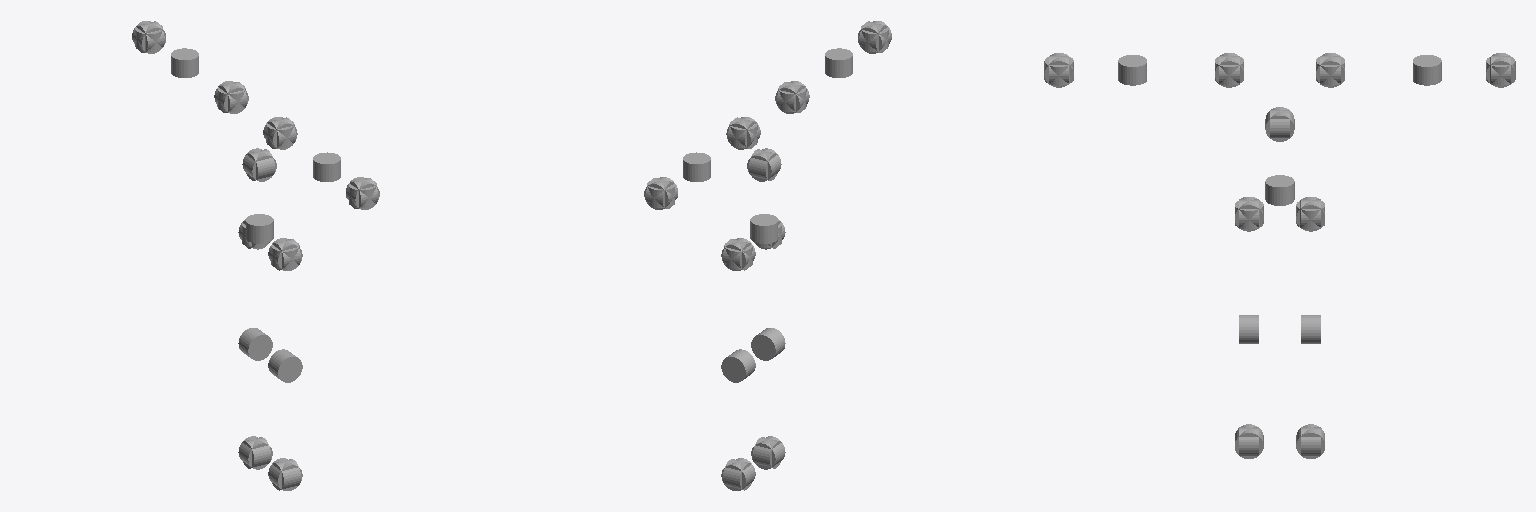
--- Facts derived from the render (not from the file) ---
Views: 3 orthographic renders of the robot side by side, from view 1: azimuth 30°, elevation 25°; view 2: azimuth 150°, elevation 25°; view 3: azimuth 270°, elevation 25°.
Robot: custom_g1_bot — 37 links, 36 joints (29 revolute, 7 fixed); root link pelvis; default pose: every joint at zero.
Links seen in each view (by area): view 1: right_knee_link, left_knee_link, waist_yaw_link, left_elbow_link, right_elbow_link; view 2: left_knee_link, right_knee_link, waist_yaw_link, right_elbow_link, left_elbow_link; view 3: waist_yaw_link, left_elbow_link, right_elbow_link, left_knee_link, right_knee_link.
Link boxes in pixels (left/top/right/bottom): right_knee_link: left=268, top=349, right=302, bottom=382; left_knee_link: left=238, top=328, right=272, bottom=360; waist_yaw_link: left=246, top=214, right=273, bottom=243; left_elbow_link: left=171, top=48, right=198, bottom=77; right_elbow_link: left=313, top=152, right=340, bottom=181; left_knee_link: left=721, top=349, right=755, bottom=382; right_knee_link: left=751, top=328, right=785, bottom=360; waist_yaw_link: left=750, top=214, right=777, bottom=243; right_elbow_link: left=825, top=48, right=852, bottom=77; left_elbow_link: left=683, top=152, right=710, bottom=181; waist_yaw_link: left=1265, top=175, right=1294, bottom=205; left_elbow_link: left=1413, top=55, right=1441, bottom=85; right_elbow_link: left=1118, top=55, right=1146, bottom=85; left_knee_link: left=1301, top=315, right=1320, bottom=343; right_knee_link: left=1239, top=315, right=1258, bottom=343.
Size in the robot's own frame: 0.0797 by 0.8048 by 0.7367 metres.
Geometry: primitives only (box / cylinder / sphere), no mesh files.

The robot description file, URDF, robot "custom_g1_bot":
<?xml version="1.0"?>
<robot name="custom_g1_bot">
  <link name="pelvis">
    
    <inertial>
      <mass value="0.01"/>
      <origin xyz="0 0 0" rpy="0 0 0"/>
      <inertia ixx="1e-5" ixy="0" ixz="0" iyy="1e-5" iyz="0" izz="1e-5"/>
    </inertial>
    
    
  </link>
  <link name="left_hip_pitch_link">
    
    <inertial>
      <mass value="0.5"/>
      <origin xyz="0 0 0" rpy="1.5708 0 0"/>
      <inertia ixx="0.01" ixy="0" ixz="0" iyy="0.01" iyz="0" izz="0.01"/>
    </inertial>
    
    <visual>
      <origin xyz="0 0 0" rpy="1.5708 0 0"/>
      <geometry><cylinder radius="0.025" length="0.035"/></geometry>
      <material name="UnitreeGray"><color rgba="0.7 0.7 0.7 1.0"/></material>
    </visual>
    
    <collision>
      <origin xyz="0 0 0" rpy="1.5708 0 0"/>
      <geometry><cylinder radius="0.025" length="0.035"/></geometry>
    </collision>
  </link>
  <joint name="left_hip_pitch_joint" type="revolute">
    <parent link="pelvis"/>
    <child link="left_hip_pitch_link"/>
    <origin xyz="0.009289 0.052743 0.000517" rpy="0 0 0"/>
    <axis xyz="0 1 0"/>
    <limit lower="-3.14" upper="3.14" effort="5.0" velocity="40.0"/>
  </joint>
  <transmission name="trans_left_hip_pitch_joint">
    <type>transmission_interface/SimpleTransmission</type>
    <joint name="left_hip_pitch_joint"><hardwareInterface>hardware_interface/EffortJointInterface</hardwareInterface></joint>
    <actuator name="motor_left_hip_pitch_joint"><mechanicalReduction>1</mechanicalReduction></actuator>
  </transmission>
  <link name="left_hip_roll_link">
    
    <inertial>
      <mass value="0.5"/>
      <origin xyz="0 0 0" rpy="0 1.5708 0"/>
      <inertia ixx="0.01" ixy="0" ixz="0" iyy="0.01" iyz="0" izz="0.01"/>
    </inertial>
    
    <visual>
      <origin xyz="0 0 0" rpy="0 1.5708 0"/>
      <geometry><cylinder radius="0.025" length="0.035"/></geometry>
      <material name="UnitreeGray"><color rgba="0.7 0.7 0.7 1.0"/></material>
    </visual>
    
    <collision>
      <origin xyz="0 0 0" rpy="0 1.5708 0"/>
      <geometry><cylinder radius="0.025" length="0.035"/></geometry>
    </collision>
  </link>
  <joint name="left_hip_roll_joint" type="revolute">
    <parent link="left_hip_pitch_link"/>
    <child link="left_hip_roll_link"/>
    <origin xyz="0 0 0" rpy="0 0 0"/>
    <axis xyz="1 0 0"/>
    <limit lower="-3.14" upper="3.14" effort="5.0" velocity="40.0"/>
  </joint>
  <transmission name="trans_left_hip_roll_joint">
    <type>transmission_interface/SimpleTransmission</type>
    <joint name="left_hip_roll_joint"><hardwareInterface>hardware_interface/EffortJointInterface</hardwareInterface></joint>
    <actuator name="motor_left_hip_roll_joint"><mechanicalReduction>1</mechanicalReduction></actuator>
  </transmission>
  <link name="left_hip_yaw_link">
    
    <inertial>
      <mass value="0.5"/>
      <origin xyz="0 0 0" rpy="0 0 0"/>
      <inertia ixx="0.01" ixy="0" ixz="0" iyy="0.01" iyz="0" izz="0.01"/>
    </inertial>
    
    <visual>
      <origin xyz="0 0 0" rpy="0 0 0"/>
      <geometry><cylinder radius="0.025" length="0.035"/></geometry>
      <material name="UnitreeGray"><color rgba="0.7 0.7 0.7 1.0"/></material>
    </visual>
    
    <collision>
      <origin xyz="0 0 0" rpy="0 0 0"/>
      <geometry><cylinder radius="0.025" length="0.035"/></geometry>
    </collision>
  </link>
  <joint name="left_hip_yaw_joint" type="revolute">
    <parent link="left_hip_roll_link"/>
    <child link="left_hip_yaw_link"/>
    <origin xyz="0 0 0" rpy="0 0 0"/>
    <axis xyz="0 0 1"/>
    <limit lower="-3.14" upper="3.14" effort="5.0" velocity="40.0"/>
  </joint>
  <transmission name="trans_left_hip_yaw_joint">
    <type>transmission_interface/SimpleTransmission</type>
    <joint name="left_hip_yaw_joint"><hardwareInterface>hardware_interface/EffortJointInterface</hardwareInterface></joint>
    <actuator name="motor_left_hip_yaw_joint"><mechanicalReduction>1</mechanicalReduction></actuator>
  </transmission>
  <link name="left_knee_link">
    
    <inertial>
      <mass value="0.5"/>
      <origin xyz="0 0 0" rpy="1.5708 0 0"/>
      <inertia ixx="0.01" ixy="0" ixz="0" iyy="0.01" iyz="0" izz="0.01"/>
    </inertial>
    
    <visual>
      <origin xyz="0 0 0" rpy="1.5708 0 0"/>
      <geometry><cylinder radius="0.025" length="0.035"/></geometry>
      <material name="UnitreeGray"><color rgba="0.7 0.7 0.7 1.0"/></material>
    </visual>
    
    <collision>
      <origin xyz="0 0 0" rpy="1.5708 0 0"/>
      <geometry><cylinder radius="0.025" length="0.035"/></geometry>
    </collision>
  </link>
  <joint name="left_knee_joint" type="revolute">
    <parent link="left_hip_yaw_link"/>
    <child link="left_knee_link"/>
    <origin xyz="-0.0 -0.0 -0.2175" rpy="0 0 0"/>
    <axis xyz="0 1 0"/>
    <limit lower="-3.14" upper="3.14" effort="5.0" velocity="40.0"/>
  </joint>
  <transmission name="trans_left_knee_joint">
    <type>transmission_interface/SimpleTransmission</type>
    <joint name="left_knee_joint"><hardwareInterface>hardware_interface/EffortJointInterface</hardwareInterface></joint>
    <actuator name="motor_left_knee_joint"><mechanicalReduction>1</mechanicalReduction></actuator>
  </transmission>
  <link name="left_ankle_pitch_link">
    
    <inertial>
      <mass value="0.5"/>
      <origin xyz="0 0 0" rpy="1.5708 0 0"/>
      <inertia ixx="0.01" ixy="0" ixz="0" iyy="0.01" iyz="0" izz="0.01"/>
    </inertial>
    
    <visual>
      <origin xyz="0 0 0" rpy="1.5708 0 0"/>
      <geometry><cylinder radius="0.025" length="0.035"/></geometry>
      <material name="UnitreeGray"><color rgba="0.7 0.7 0.7 1.0"/></material>
    </visual>
    
    <collision>
      <origin xyz="0 0 0" rpy="1.5708 0 0"/>
      <geometry><cylinder radius="0.025" length="0.035"/></geometry>
    </collision>
  </link>
  <joint name="left_ankle_pitch_joint" type="revolute">
    <parent link="left_knee_link"/>
    <child link="left_ankle_pitch_link"/>
    <origin xyz="0.0 0.0 -0.211861" rpy="0 0 0"/>
    <axis xyz="0 1 0"/>
    <limit lower="-3.14" upper="3.14" effort="5.0" velocity="40.0"/>
  </joint>
  <transmission name="trans_left_ankle_pitch_joint">
    <type>transmission_interface/SimpleTransmission</type>
    <joint name="left_ankle_pitch_joint"><hardwareInterface>hardware_interface/EffortJointInterface</hardwareInterface></joint>
    <actuator name="motor_left_ankle_pitch_joint"><mechanicalReduction>1</mechanicalReduction></actuator>
  </transmission>
  <link name="left_ankle_roll_link">
    
    <inertial>
      <mass value="0.5"/>
      <origin xyz="0 0 0" rpy="0 1.5708 0"/>
      <inertia ixx="0.01" ixy="0" ixz="0" iyy="0.01" iyz="0" izz="0.01"/>
    </inertial>
    
    <visual>
      <origin xyz="0 0 0" rpy="0 1.5708 0"/>
      <geometry><cylinder radius="0.025" length="0.035"/></geometry>
      <material name="UnitreeGray"><color rgba="0.7 0.7 0.7 1.0"/></material>
    </visual>
    
    <collision>
      <origin xyz="0 0 0" rpy="0 1.5708 0"/>
      <geometry><cylinder radius="0.025" length="0.035"/></geometry>
    </collision>
  </link>
  <joint name="left_ankle_roll_joint" type="revolute">
    <parent link="left_ankle_pitch_link"/>
    <child link="left_ankle_roll_link"/>
    <origin xyz="0 0 0" rpy="0 0 0"/>
    <axis xyz="1 0 0"/>
    <limit lower="-3.14" upper="3.14" effort="5.0" velocity="40.0"/>
  </joint>
  <transmission name="trans_left_ankle_roll_joint">
    <type>transmission_interface/SimpleTransmission</type>
    <joint name="left_ankle_roll_joint"><hardwareInterface>hardware_interface/EffortJointInterface</hardwareInterface></joint>
    <actuator name="motor_left_ankle_roll_joint"><mechanicalReduction>1</mechanicalReduction></actuator>
  </transmission>
  <link name="LeftToe_link">
    
    <inertial>
      <mass value="0.01"/>
      <origin xyz="0 0 0" rpy="0 0 0"/>
      <inertia ixx="1e-5" ixy="0" ixz="0" iyy="1e-5" iyz="0" izz="1e-5"/>
    </inertial>
    
    
  </link>
  <joint name="LeftToe_fixed_joint" type="fixed">
    <parent link="left_ankle_roll_link"/>
    <child link="LeftToe_link"/>
    <origin xyz="0.0865 -0.0 0.0" rpy="0 0 0"/>
    <axis xyz="0 0 0"/>
    
  </joint>
  <link name="right_hip_pitch_link">
    
    <inertial>
      <mass value="0.5"/>
      <origin xyz="0 0 0" rpy="1.5708 0 0"/>
      <inertia ixx="0.01" ixy="0" ixz="0" iyy="0.01" iyz="0" izz="0.01"/>
    </inertial>
    
    <visual>
      <origin xyz="0 0 0" rpy="1.5708 0 0"/>
      <geometry><cylinder radius="0.025" length="0.035"/></geometry>
      <material name="UnitreeGray"><color rgba="0.7 0.7 0.7 1.0"/></material>
    </visual>
    
    <collision>
      <origin xyz="0 0 0" rpy="1.5708 0 0"/>
      <geometry><cylinder radius="0.025" length="0.035"/></geometry>
    </collision>
  </link>
  <joint name="right_hip_pitch_joint" type="revolute">
    <parent link="pelvis"/>
    <child link="right_hip_pitch_link"/>
    <origin xyz="0.009289 -0.052743 0.000517" rpy="0 0 0"/>
    <axis xyz="0 1 0"/>
    <limit lower="-3.14" upper="3.14" effort="5.0" velocity="40.0"/>
  </joint>
  <transmission name="trans_right_hip_pitch_joint">
    <type>transmission_interface/SimpleTransmission</type>
    <joint name="right_hip_pitch_joint"><hardwareInterface>hardware_interface/EffortJointInterface</hardwareInterface></joint>
    <actuator name="motor_right_hip_pitch_joint"><mechanicalReduction>1</mechanicalReduction></actuator>
  </transmission>
  <link name="right_hip_roll_link">
    
    <inertial>
      <mass value="0.5"/>
      <origin xyz="0 0 0" rpy="0 1.5708 0"/>
      <inertia ixx="0.01" ixy="0" ixz="0" iyy="0.01" iyz="0" izz="0.01"/>
    </inertial>
    
    <visual>
      <origin xyz="0 0 0" rpy="0 1.5708 0"/>
      <geometry><cylinder radius="0.025" length="0.035"/></geometry>
      <material name="UnitreeGray"><color rgba="0.7 0.7 0.7 1.0"/></material>
    </visual>
    
    <collision>
      <origin xyz="0 0 0" rpy="0 1.5708 0"/>
      <geometry><cylinder radius="0.025" length="0.035"/></geometry>
    </collision>
  </link>
  <joint name="right_hip_roll_joint" type="revolute">
    <parent link="right_hip_pitch_link"/>
    <child link="right_hip_roll_link"/>
    <origin xyz="0 0 0" rpy="0 0 0"/>
    <axis xyz="1 0 0"/>
    <limit lower="-3.14" upper="3.14" effort="5.0" velocity="40.0"/>
  </joint>
  <transmission name="trans_right_hip_roll_joint">
    <type>transmission_interface/SimpleTransmission</type>
    <joint name="right_hip_roll_joint"><hardwareInterface>hardware_interface/EffortJointInterface</hardwareInterface></joint>
    <actuator name="motor_right_hip_roll_joint"><mechanicalReduction>1</mechanicalReduction></actuator>
  </transmission>
  <link name="right_hip_yaw_link">
    
    <inertial>
      <mass value="0.5"/>
      <origin xyz="0 0 0" rpy="0 0 0"/>
      <inertia ixx="0.01" ixy="0" ixz="0" iyy="0.01" iyz="0" izz="0.01"/>
    </inertial>
    
    <visual>
      <origin xyz="0 0 0" rpy="0 0 0"/>
      <geometry><cylinder radius="0.025" length="0.035"/></geometry>
      <material name="UnitreeGray"><color rgba="0.7 0.7 0.7 1.0"/></material>
    </visual>
    
    <collision>
      <origin xyz="0 0 0" rpy="0 0 0"/>
      <geometry><cylinder radius="0.025" length="0.035"/></geometry>
    </collision>
  </link>
  <joint name="right_hip_yaw_joint" type="revolute">
    <parent link="right_hip_roll_link"/>
    <child link="right_hip_yaw_link"/>
    <origin xyz="0 0 0" rpy="0 0 0"/>
    <axis xyz="0 0 1"/>
    <limit lower="-3.14" upper="3.14" effort="5.0" velocity="40.0"/>
  </joint>
  <transmission name="trans_right_hip_yaw_joint">
    <type>transmission_interface/SimpleTransmission</type>
    <joint name="right_hip_yaw_joint"><hardwareInterface>hardware_interface/EffortJointInterface</hardwareInterface></joint>
    <actuator name="motor_right_hip_yaw_joint"><mechanicalReduction>1</mechanicalReduction></actuator>
  </transmission>
  <link name="right_knee_link">
    
    <inertial>
      <mass value="0.5"/>
      <origin xyz="0 0 0" rpy="1.5708 0 0"/>
      <inertia ixx="0.01" ixy="0" ixz="0" iyy="0.01" iyz="0" izz="0.01"/>
    </inertial>
    
    <visual>
      <origin xyz="0 0 0" rpy="1.5708 0 0"/>
      <geometry><cylinder radius="0.025" length="0.035"/></geometry>
      <material name="UnitreeGray"><color rgba="0.7 0.7 0.7 1.0"/></material>
    </visual>
    
    <collision>
      <origin xyz="0 0 0" rpy="1.5708 0 0"/>
      <geometry><cylinder radius="0.025" length="0.035"/></geometry>
    </collision>
  </link>
  <joint name="right_knee_joint" type="revolute">
    <parent link="right_hip_yaw_link"/>
    <child link="right_knee_link"/>
    <origin xyz="-0.0 -0.0 -0.2175" rpy="0 0 0"/>
    <axis xyz="0 1 0"/>
    <limit lower="-3.14" upper="3.14" effort="5.0" velocity="40.0"/>
  </joint>
  <transmission name="trans_right_knee_joint">
    <type>transmission_interface/SimpleTransmission</type>
    <joint name="right_knee_joint"><hardwareInterface>hardware_interface/EffortJointInterface</hardwareInterface></joint>
    <actuator name="motor_right_knee_joint"><mechanicalReduction>1</mechanicalReduction></actuator>
  </transmission>
  <link name="right_ankle_pitch_link">
    
    <inertial>
      <mass value="0.5"/>
      <origin xyz="0 0 0" rpy="1.5708 0 0"/>
      <inertia ixx="0.01" ixy="0" ixz="0" iyy="0.01" iyz="0" izz="0.01"/>
    </inertial>
    
    <visual>
      <origin xyz="0 0 0" rpy="1.5708 0 0"/>
      <geometry><cylinder radius="0.025" length="0.035"/></geometry>
      <material name="UnitreeGray"><color rgba="0.7 0.7 0.7 1.0"/></material>
    </visual>
    
    <collision>
      <origin xyz="0 0 0" rpy="1.5708 0 0"/>
      <geometry><cylinder radius="0.025" length="0.035"/></geometry>
    </collision>
  </link>
  <joint name="right_ankle_pitch_joint" type="revolute">
    <parent link="right_knee_link"/>
    <child link="right_ankle_pitch_link"/>
    <origin xyz="0.0 -0.0 -0.211861" rpy="0 0 0"/>
    <axis xyz="0 1 0"/>
    <limit lower="-3.14" upper="3.14" effort="5.0" velocity="40.0"/>
  </joint>
  <transmission name="trans_right_ankle_pitch_joint">
    <type>transmission_interface/SimpleTransmission</type>
    <joint name="right_ankle_pitch_joint"><hardwareInterface>hardware_interface/EffortJointInterface</hardwareInterface></joint>
    <actuator name="motor_right_ankle_pitch_joint"><mechanicalReduction>1</mechanicalReduction></actuator>
  </transmission>
  <link name="right_ankle_roll_link">
    
    <inertial>
      <mass value="0.5"/>
      <origin xyz="0 0 0" rpy="0 1.5708 0"/>
      <inertia ixx="0.01" ixy="0" ixz="0" iyy="0.01" iyz="0" izz="0.01"/>
    </inertial>
    
    <visual>
      <origin xyz="0 0 0" rpy="0 1.5708 0"/>
      <geometry><cylinder radius="0.025" length="0.035"/></geometry>
      <material name="UnitreeGray"><color rgba="0.7 0.7 0.7 1.0"/></material>
    </visual>
    
    <collision>
      <origin xyz="0 0 0" rpy="0 1.5708 0"/>
      <geometry><cylinder radius="0.025" length="0.035"/></geometry>
    </collision>
  </link>
  <joint name="right_ankle_roll_joint" type="revolute">
    <parent link="right_ankle_pitch_link"/>
    <child link="right_ankle_roll_link"/>
    <origin xyz="0 0 0" rpy="0 0 0"/>
    <axis xyz="1 0 0"/>
    <limit lower="-3.14" upper="3.14" effort="5.0" velocity="40.0"/>
  </joint>
  <transmission name="trans_right_ankle_roll_joint">
    <type>transmission_interface/SimpleTransmission</type>
    <joint name="right_ankle_roll_joint"><hardwareInterface>hardware_interface/EffortJointInterface</hardwareInterface></joint>
    <actuator name="motor_right_ankle_roll_joint"><mechanicalReduction>1</mechanicalReduction></actuator>
  </transmission>
  <link name="RightToe_link">
    
    <inertial>
      <mass value="0.01"/>
      <origin xyz="0 0 0" rpy="0 0 0"/>
      <inertia ixx="1e-5" ixy="0" ixz="0" iyy="1e-5" iyz="0" izz="1e-5"/>
    </inertial>
    
    
  </link>
  <joint name="RightToe_fixed_joint" type="fixed">
    <parent link="right_ankle_roll_link"/>
    <child link="RightToe_link"/>
    <origin xyz="0.0865 -0.0 -0.0" rpy="0 0 0"/>
    <axis xyz="0 0 0"/>
    
  </joint>
  <link name="waist_yaw_link">
    
    <inertial>
      <mass value="0.5"/>
      <origin xyz="0 0 0" rpy="0 0 0"/>
      <inertia ixx="0.01" ixy="0" ixz="0" iyy="0.01" iyz="0" izz="0.01"/>
    </inertial>
    
    <visual>
      <origin xyz="0 0 0" rpy="0 0 0"/>
      <geometry><cylinder radius="0.025" length="0.035"/></geometry>
      <material name="UnitreeGray"><color rgba="0.7 0.7 0.7 1.0"/></material>
    </visual>
    
    <collision>
      <origin xyz="0 0 0" rpy="0 0 0"/>
      <geometry><cylinder radius="0.025" length="0.035"/></geometry>
    </collision>
  </link>
  <joint name="waist_yaw_joint" type="revolute">
    <parent link="pelvis"/>
    <child link="waist_yaw_link"/>
    <origin xyz="-0.013019 -0.0 0.03451" rpy="0 0 0"/>
    <axis xyz="0 0 1"/>
    <limit lower="-3.14" upper="3.14" effort="5.0" velocity="40.0"/>
  </joint>
  <transmission name="trans_waist_yaw_joint">
    <type>transmission_interface/SimpleTransmission</type>
    <joint name="waist_yaw_joint"><hardwareInterface>hardware_interface/EffortJointInterface</hardwareInterface></joint>
    <actuator name="motor_waist_yaw_joint"><mechanicalReduction>1</mechanicalReduction></actuator>
  </transmission>
  <link name="Spine1_link">
    
    <inertial>
      <mass value="0.01"/>
      <origin xyz="0 0 0" rpy="0 0 0"/>
      <inertia ixx="1e-5" ixy="0" ixz="0" iyy="1e-5" iyz="0" izz="1e-5"/>
    </inertial>
    
    
  </link>
  <joint name="Spine1_fixed_joint" type="fixed">
    <parent link="waist_yaw_link"/>
    <child link="Spine1_link"/>
    <origin xyz="0.0 0.0 0.06294" rpy="0 0 0"/>
    <axis xyz="0 0 0"/>
    
  </joint>
  <link name="waist_roll_link">
    
    <inertial>
      <mass value="0.5"/>
      <origin xyz="0 0 0" rpy="0 1.5708 0"/>
      <inertia ixx="0.01" ixy="0" ixz="0" iyy="0.01" iyz="0" izz="0.01"/>
    </inertial>
    
    <visual>
      <origin xyz="0 0 0" rpy="0 1.5708 0"/>
      <geometry><cylinder radius="0.025" length="0.035"/></geometry>
      <material name="UnitreeGray"><color rgba="0.7 0.7 0.7 1.0"/></material>
    </visual>
    
    <collision>
      <origin xyz="0 0 0" rpy="0 1.5708 0"/>
      <geometry><cylinder radius="0.025" length="0.035"/></geometry>
    </collision>
  </link>
  <joint name="waist_roll_joint" type="revolute">
    <parent link="Spine1_link"/>
    <child link="waist_roll_link"/>
    <origin xyz="-0.0 -0.0 0.061716" rpy="0 0 0"/>
    <axis xyz="1 0 0"/>
    <limit lower="-3.14" upper="3.14" effort="5.0" velocity="40.0"/>
  </joint>
  <transmission name="trans_waist_roll_joint">
    <type>transmission_interface/SimpleTransmission</type>
    <joint name="waist_roll_joint"><hardwareInterface>hardware_interface/EffortJointInterface</hardwareInterface></joint>
    <actuator name="motor_waist_roll_joint"><mechanicalReduction>1</mechanicalReduction></actuator>
  </transmission>
  <link name="torso_pitch_link">
    
    <inertial>
      <mass value="0.5"/>
      <origin xyz="0 0 0" rpy="1.5708 0 0"/>
      <inertia ixx="0.01" ixy="0" ixz="0" iyy="0.01" iyz="0" izz="0.01"/>
    </inertial>
    
    <visual>
      <origin xyz="0 0 0" rpy="1.5708 0 0"/>
      <geometry><cylinder radius="0.025" length="0.035"/></geometry>
      <material name="UnitreeGray"><color rgba="0.7 0.7 0.7 1.0"/></material>
    </visual>
    
    <collision>
      <origin xyz="0 0 0" rpy="1.5708 0 0"/>
      <geometry><cylinder radius="0.025" length="0.035"/></geometry>
    </collision>
  </link>
  <joint name="torso_pitch_joint" type="revolute">
    <parent link="waist_roll_link"/>
    <child link="torso_pitch_link"/>
    <origin xyz="0 0 0" rpy="0 0 0"/>
    <axis xyz="0 1 0"/>
    <limit lower="-3.14" upper="3.14" effort="5.0" velocity="40.0"/>
  </joint>
  <transmission name="trans_torso_pitch_joint">
    <type>transmission_interface/SimpleTransmission</type>
    <joint name="torso_pitch_joint"><hardwareInterface>hardware_interface/EffortJointInterface</hardwareInterface></joint>
    <actuator name="motor_torso_pitch_joint"><mechanicalReduction>1</mechanicalReduction></actuator>
  </transmission>
  <link name="Neck_link">
    
    <inertial>
      <mass value="0.01"/>
      <origin xyz="0 0 0" rpy="0 0 0"/>
      <inertia ixx="1e-5" ixy="0" ixz="0" iyy="1e-5" iyz="0" izz="1e-5"/>
    </inertial>
    
    
  </link>
  <joint name="Neck_fixed_joint" type="fixed">
    <parent link="torso_pitch_link"/>
    <child link="Neck_link"/>
    <origin xyz="0.0 0.0 0.129164" rpy="0 0 0"/>
    <axis xyz="0 0 0"/>
    
  </joint>
  <link name="Head_link">
    
    <inertial>
      <mass value="0.01"/>
      <origin xyz="0 0 0" rpy="0 0 0"/>
      <inertia ixx="1e-5" ixy="0" ixz="0" iyy="1e-5" iyz="0" izz="1e-5"/>
    </inertial>
    
    
  </link>
  <joint name="Head_fixed_joint" type="fixed">
    <parent link="Neck_link"/>
    <child link="Head_link"/>
    <origin xyz="-0.0 -0.0 0.058833" rpy="0 0 0"/>
    <axis xyz="0 0 0"/>
    
  </joint>
  <link name="LeftShoulder_link">
    
    <inertial>
      <mass value="0.01"/>
      <origin xyz="0 0 0" rpy="0 0 0"/>
      <inertia ixx="1e-5" ixy="0" ixz="0" iyy="1e-5" iyz="0" izz="1e-5"/>
    </inertial>
    
    
  </link>
  <joint name="LeftShoulder_fixed_joint" type="fixed">
    <parent link="torso_pitch_link"/>
    <child link="LeftShoulder_link"/>
    <origin xyz="-0.007402 0.03 0.09873" rpy="0 0 0"/>
    <axis xyz="0 0 0"/>
    
  </joint>
  <link name="left_shoulder_pitch_link">
    
    <inertial>
      <mass value="0.5"/>
      <origin xyz="0 0 0" rpy="1.5708 0 0"/>
      <inertia ixx="0.01" ixy="0" ixz="0" iyy="0.01" iyz="0" izz="0.01"/>
    </inertial>
    
    <visual>
      <origin xyz="0 0 0" rpy="1.5708 0 0"/>
      <geometry><cylinder radius="0.025" length="0.035"/></geometry>
      <material name="UnitreeGray"><color rgba="0.7 0.7 0.7 1.0"/></material>
    </visual>
    
    <collision>
      <origin xyz="0 0 0" rpy="1.5708 0 0"/>
      <geometry><cylinder radius="0.025" length="0.035"/></geometry>
    </collision>
  </link>
  <joint name="left_shoulder_pitch_joint" type="revolute">
    <parent link="LeftShoulder_link"/>
    <child link="left_shoulder_pitch_link"/>
    <origin xyz="0.0 0.056421 0.0" rpy="0 0 0"/>
    <axis xyz="0 1 0"/>
    <limit lower="-3.14" upper="3.14" effort="5.0" velocity="40.0"/>
  </joint>
  <transmission name="trans_left_shoulder_pitch_joint">
    <type>transmission_interface/SimpleTransmission</type>
    <joint name="left_shoulder_pitch_joint"><hardwareInterface>hardware_interface/EffortJointInterface</hardwareInterface></joint>
    <actuator name="motor_left_shoulder_pitch_joint"><mechanicalReduction>1</mechanicalReduction></actuator>
  </transmission>
  <link name="left_shoulder_roll_link">
    
    <inertial>
      <mass value="0.5"/>
      <origin xyz="0 0 0" rpy="0 1.5708 0"/>
      <inertia ixx="0.01" ixy="0" ixz="0" iyy="0.01" iyz="0" izz="0.01"/>
    </inertial>
    
    <visual>
      <origin xyz="0 0 0" rpy="0 1.5708 0"/>
      <geometry><cylinder radius="0.025" length="0.035"/></geometry>
      <material name="UnitreeGray"><color rgba="0.7 0.7 0.7 1.0"/></material>
    </visual>
    
    <collision>
      <origin xyz="0 0 0" rpy="0 1.5708 0"/>
      <geometry><cylinder radius="0.025" length="0.035"/></geometry>
    </collision>
  </link>
  <joint name="left_shoulder_roll_joint" type="revolute">
    <parent link="left_shoulder_pitch_link"/>
    <child link="left_shoulder_roll_link"/>
    <origin xyz="0 0 0" rpy="0 0 0"/>
    <axis xyz="1 0 0"/>
    <limit lower="-3.14" upper="3.14" effort="5.0" velocity="40.0"/>
  </joint>
  <transmission name="trans_left_shoulder_roll_joint">
    <type>transmission_interface/SimpleTransmission</type>
    <joint name="left_shoulder_roll_joint"><hardwareInterface>hardware_interface/EffortJointInterface</hardwareInterface></joint>
    <actuator name="motor_left_shoulder_roll_joint"><mechanicalReduction>1</mechanicalReduction></actuator>
  </transmission>
  <link name="left_shoulder_yaw_link">
    
    <inertial>
      <mass value="0.5"/>
      <origin xyz="0 0 0" rpy="0 0 0"/>
      <inertia ixx="0.01" ixy="0" ixz="0" iyy="0.01" iyz="0" izz="0.01"/>
    </inertial>
    
    <visual>
      <origin xyz="0 0 0" rpy="0 0 0"/>
      <geometry><cylinder radius="0.025" length="0.035"/></geometry>
      <material name="UnitreeGray"><color rgba="0.7 0.7 0.7 1.0"/></material>
    </visual>
    
    <collision>
      <origin xyz="0 0 0" rpy="0 0 0"/>
      <geometry><cylinder radius="0.025" length="0.035"/></geometry>
    </collision>
  </link>
  <joint name="left_shoulder_yaw_joint" type="revolute">
    <parent link="left_shoulder_roll_link"/>
    <child link="left_shoulder_yaw_link"/>
    <origin xyz="0 0 0" rpy="0 0 0"/>
    <axis xyz="0 0 1"/>
    <limit lower="-3.14" upper="3.14" effort="5.0" velocity="40.0"/>
  </joint>
  <transmission name="trans_left_shoulder_yaw_joint">
    <type>transmission_interface/SimpleTransmission</type>
    <joint name="left_shoulder_yaw_joint"><hardwareInterface>hardware_interface/EffortJointInterface</hardwareInterface></joint>
    <actuator name="motor_left_shoulder_yaw_joint"><mechanicalReduction>1</mechanicalReduction></actuator>
  </transmission>
  <link name="left_elbow_link">
    
    <inertial>
      <mass value="0.5"/>
      <origin xyz="0 0 0" rpy="0 0 0"/>
      <inertia ixx="0.01" ixy="0" ixz="0" iyy="0.01" iyz="0" izz="0.01"/>
    </inertial>
    
    <visual>
      <origin xyz="0 0 0" rpy="0 0 0"/>
      <geometry><cylinder radius="0.025" length="0.035"/></geometry>
      <material name="UnitreeGray"><color rgba="0.7 0.7 0.7 1.0"/></material>
    </visual>
    
    <collision>
      <origin xyz="0 0 0" rpy="0 0 0"/>
      <geometry><cylinder radius="0.025" length="0.035"/></geometry>
    </collision>
  </link>
  <joint name="left_elbow_joint" type="revolute">
    <parent link="left_shoulder_yaw_link"/>
    <child link="left_elbow_link"/>
    <origin xyz="-0.0 0.165 -0.0" rpy="0 0 0"/>
    <axis xyz="0 0 1"/>
    <limit lower="-3.14" upper="3.14" effort="5.0" velocity="40.0"/>
  </joint>
  <transmission name="trans_left_elbow_joint">
    <type>transmission_interface/SimpleTransmission</type>
    <joint name="left_elbow_joint"><hardwareInterface>hardware_interface/EffortJointInterface</hardwareInterface></joint>
    <actuator name="motor_left_elbow_joint"><mechanicalReduction>1</mechanicalReduction></actuator>
  </transmission>
  <link name="left_wrist_roll_link">
    
    <inertial>
      <mass value="0.5"/>
      <origin xyz="0 0 0" rpy="0 1.5708 0"/>
      <inertia ixx="0.01" ixy="0" ixz="0" iyy="0.01" iyz="0" izz="0.01"/>
    </inertial>
    
    <visual>
      <origin xyz="0 0 0" rpy="0 1.5708 0"/>
      <geometry><cylinder radius="0.025" length="0.035"/></geometry>
      <material name="UnitreeGray"><color rgba="0.7 0.7 0.7 1.0"/></material>
    </visual>
    
    <collision>
      <origin xyz="0 0 0" rpy="0 1.5708 0"/>
      <geometry><cylinder radius="0.025" length="0.035"/></geometry>
    </collision>
  </link>
  <joint name="left_wrist_roll_joint" type="revolute">
    <parent link="left_elbow_link"/>
    <child link="left_wrist_roll_link"/>
    <origin xyz="0.0 0.126 -0.0" rpy="0 0 0"/>
    <axis xyz="1 0 0"/>
    <limit lower="-3.14" upper="3.14" effort="5.0" velocity="40.0"/>
  </joint>
  <transmission name="trans_left_wrist_roll_joint">
    <type>transmission_interface/SimpleTransmission</type>
    <joint name="left_wrist_roll_joint"><hardwareInterface>hardware_interface/EffortJointInterface</hardwareInterface></joint>
    <actuator name="motor_left_wrist_roll_joint"><mechanicalReduction>1</mechanicalReduction></actuator>
  </transmission>
  <link name="left_wrist_pitch_link">
    
    <inertial>
      <mass value="0.5"/>
      <origin xyz="0 0 0" rpy="1.5708 0 0"/>
      <inertia ixx="0.01" ixy="0" ixz="0" iyy="0.01" iyz="0" izz="0.01"/>
    </inertial>
    
    <visual>
      <origin xyz="0 0 0" rpy="1.5708 0 0"/>
      <geometry><cylinder radius="0.025" length="0.035"/></geometry>
      <material name="UnitreeGray"><color rgba="0.7 0.7 0.7 1.0"/></material>
    </visual>
    
    <collision>
      <origin xyz="0 0 0" rpy="1.5708 0 0"/>
      <geometry><cylinder radius="0.025" length="0.035"/></geometry>
    </collision>
  </link>
  <joint name="left_wrist_pitch_joint" type="revolute">
    <parent link="left_wrist_roll_link"/>
    <child link="left_wrist_pitch_link"/>
    <origin xyz="0 0 0" rpy="0 0 0"/>
    <axis xyz="0 1 0"/>
    <limit lower="-3.14" upper="3.14" effort="5.0" velocity="40.0"/>
  </joint>
  <transmission name="trans_left_wrist_pitch_joint">
    <type>transmission_interface/SimpleTransmission</type>
    <joint name="left_wrist_pitch_joint"><hardwareInterface>hardware_interface/EffortJointInterface</hardwareInterface></joint>
    <actuator name="motor_left_wrist_pitch_joint"><mechanicalReduction>1</mechanicalReduction></actuator>
  </transmission>
  <link name="left_wrist_yaw_link">
    
    <inertial>
      <mass value="0.5"/>
      <origin xyz="0 0 0" rpy="0 0 0"/>
      <inertia ixx="0.01" ixy="0" ixz="0" iyy="0.01" iyz="0" izz="0.01"/>
    </inertial>
    
    <visual>
      <origin xyz="0 0 0" rpy="0 0 0"/>
      <geometry><cylinder radius="0.025" length="0.035"/></geometry>
      <material name="UnitreeGray"><color rgba="0.7 0.7 0.7 1.0"/></material>
    </visual>
    
    <collision>
      <origin xyz="0 0 0" rpy="0 0 0"/>
      <geometry><cylinder radius="0.025" length="0.035"/></geometry>
    </collision>
  </link>
  <joint name="left_wrist_yaw_joint" type="revolute">
    <parent link="left_wrist_pitch_link"/>
    <child link="left_wrist_yaw_link"/>
    <origin xyz="0 0 0" rpy="0 0 0"/>
    <axis xyz="0 0 1"/>
    <limit lower="-3.14" upper="3.14" effort="5.0" velocity="40.0"/>
  </joint>
  <transmission name="trans_left_wrist_yaw_joint">
    <type>transmission_interface/SimpleTransmission</type>
    <joint name="left_wrist_yaw_joint"><hardwareInterface>hardware_interface/EffortJointInterface</hardwareInterface></joint>
    <actuator name="motor_left_wrist_yaw_joint"><mechanicalReduction>1</mechanicalReduction></actuator>
  </transmission>
  <link name="RightShoulder_link">
    
    <inertial>
      <mass value="0.01"/>
      <origin xyz="0 0 0" rpy="0 0 0"/>
      <inertia ixx="1e-5" ixy="0" ixz="0" iyy="1e-5" iyz="0" izz="1e-5"/>
    </inertial>
    
    
  </link>
  <joint name="RightShoulder_fixed_joint" type="fixed">
    <parent link="torso_pitch_link"/>
    <child link="RightShoulder_link"/>
    <origin xyz="-0.007402 -0.03 0.09873" rpy="0 0 0"/>
    <axis xyz="0 0 0"/>
    
  </joint>
  <link name="right_shoulder_pitch_link">
    
    <inertial>
      <mass value="0.5"/>
      <origin xyz="0 0 0" rpy="1.5708 0 0"/>
      <inertia ixx="0.01" ixy="0" ixz="0" iyy="0.01" iyz="0" izz="0.01"/>
    </inertial>
    
    <visual>
      <origin xyz="0 0 0" rpy="1.5708 0 0"/>
      <geometry><cylinder radius="0.025" length="0.035"/></geometry>
      <material name="UnitreeGray"><color rgba="0.7 0.7 0.7 1.0"/></material>
    </visual>
    
    <collision>
      <origin xyz="0 0 0" rpy="1.5708 0 0"/>
      <geometry><cylinder radius="0.025" length="0.035"/></geometry>
    </collision>
  </link>
  <joint name="right_shoulder_pitch_joint" type="revolute">
    <parent link="RightShoulder_link"/>
    <child link="right_shoulder_pitch_link"/>
    <origin xyz="0.0 -0.056421 0.0" rpy="0 0 0"/>
    <axis xyz="0 1 0"/>
    <limit lower="-3.14" upper="3.14" effort="5.0" velocity="40.0"/>
  </joint>
  <transmission name="trans_right_shoulder_pitch_joint">
    <type>transmission_interface/SimpleTransmission</type>
    <joint name="right_shoulder_pitch_joint"><hardwareInterface>hardware_interface/EffortJointInterface</hardwareInterface></joint>
    <actuator name="motor_right_shoulder_pitch_joint"><mechanicalReduction>1</mechanicalReduction></actuator>
  </transmission>
  <link name="right_shoulder_roll_link">
    
    <inertial>
      <mass value="0.5"/>
      <origin xyz="0 0 0" rpy="0 1.5708 0"/>
      <inertia ixx="0.01" ixy="0" ixz="0" iyy="0.01" iyz="0" izz="0.01"/>
    </inertial>
    
    <visual>
      <origin xyz="0 0 0" rpy="0 1.5708 0"/>
      <geometry><cylinder radius="0.025" length="0.035"/></geometry>
      <material name="UnitreeGray"><color rgba="0.7 0.7 0.7 1.0"/></material>
    </visual>
    
    <collision>
      <origin xyz="0 0 0" rpy="0 1.5708 0"/>
      <geometry><cylinder radius="0.025" length="0.035"/></geometry>
    </collision>
  </link>
  <joint name="right_shoulder_roll_joint" type="revolute">
    <parent link="right_shoulder_pitch_link"/>
    <child link="right_shoulder_roll_link"/>
    <origin xyz="0 0 0" rpy="0 0 0"/>
    <axis xyz="1 0 0"/>
    <limit lower="-3.14" upper="3.14" effort="5.0" velocity="40.0"/>
  </joint>
  <transmission name="trans_right_shoulder_roll_joint">
    <type>transmission_interface/SimpleTransmission</type>
    <joint name="right_shoulder_roll_joint"><hardwareInterface>hardware_interface/EffortJointInterface</hardwareInterface></joint>
    <actuator name="motor_right_shoulder_roll_joint"><mechanicalReduction>1</mechanicalReduction></actuator>
  </transmission>
  <link name="right_shoulder_yaw_link">
    
    <inertial>
      <mass value="0.5"/>
      <origin xyz="0 0 0" rpy="0 0 0"/>
      <inertia ixx="0.01" ixy="0" ixz="0" iyy="0.01" iyz="0" izz="0.01"/>
    </inertial>
    
    <visual>
      <origin xyz="0 0 0" rpy="0 0 0"/>
      <geometry><cylinder radius="0.025" length="0.035"/></geometry>
      <material name="UnitreeGray"><color rgba="0.7 0.7 0.7 1.0"/></material>
    </visual>
    
    <collision>
      <origin xyz="0 0 0" rpy="0 0 0"/>
      <geometry><cylinder radius="0.025" length="0.035"/></geometry>
    </collision>
  </link>
  <joint name="right_shoulder_yaw_joint" type="revolute">
    <parent link="right_shoulder_roll_link"/>
    <child link="right_shoulder_yaw_link"/>
    <origin xyz="0 0 0" rpy="0 0 0"/>
    <axis xyz="0 0 1"/>
    <limit lower="-3.14" upper="3.14" effort="5.0" velocity="40.0"/>
  </joint>
  <transmission name="trans_right_shoulder_yaw_joint">
    <type>transmission_interface/SimpleTransmission</type>
    <joint name="right_shoulder_yaw_joint"><hardwareInterface>hardware_interface/EffortJointInterface</hardwareInterface></joint>
    <actuator name="motor_right_shoulder_yaw_joint"><mechanicalReduction>1</mechanicalReduction></actuator>
  </transmission>
  <link name="right_elbow_link">
    
    <inertial>
      <mass value="0.5"/>
      <origin xyz="0 0 0" rpy="0 0 0"/>
      <inertia ixx="0.01" ixy="0" ixz="0" iyy="0.01" iyz="0" izz="0.01"/>
    </inertial>
    
    <visual>
      <origin xyz="0 0 0" rpy="0 0 0"/>
      <geometry><cylinder radius="0.025" length="0.035"/></geometry>
      <material name="UnitreeGray"><color rgba="0.7 0.7 0.7 1.0"/></material>
    </visual>
    
    <collision>
      <origin xyz="0 0 0" rpy="0 0 0"/>
      <geometry><cylinder radius="0.025" length="0.035"/></geometry>
    </collision>
  </link>
  <joint name="right_elbow_joint" type="revolute">
    <parent link="right_shoulder_yaw_link"/>
    <child link="right_elbow_link"/>
    <origin xyz="0.0 -0.165001 0.0" rpy="0 0 0"/>
    <axis xyz="0 0 1"/>
    <limit lower="-3.14" upper="3.14" effort="5.0" velocity="40.0"/>
  </joint>
  <transmission name="trans_right_elbow_joint">
    <type>transmission_interface/SimpleTransmission</type>
    <joint name="right_elbow_joint"><hardwareInterface>hardware_interface/EffortJointInterface</hardwareInterface></joint>
    <actuator name="motor_right_elbow_joint"><mechanicalReduction>1</mechanicalReduction></actuator>
  </transmission>
  <link name="right_wrist_roll_link">
    
    <inertial>
      <mass value="0.5"/>
      <origin xyz="0 0 0" rpy="0 1.5708 0"/>
      <inertia ixx="0.01" ixy="0" ixz="0" iyy="0.01" iyz="0" izz="0.01"/>
    </inertial>
    
    <visual>
      <origin xyz="0 0 0" rpy="0 1.5708 0"/>
      <geometry><cylinder radius="0.025" length="0.035"/></geometry>
      <material name="UnitreeGray"><color rgba="0.7 0.7 0.7 1.0"/></material>
    </visual>
    
    <collision>
      <origin xyz="0 0 0" rpy="0 1.5708 0"/>
      <geometry><cylinder radius="0.025" length="0.035"/></geometry>
    </collision>
  </link>
  <joint name="right_wrist_roll_joint" type="revolute">
    <parent link="right_elbow_link"/>
    <child link="right_wrist_roll_link"/>
    <origin xyz="1e-06 -0.125999 2e-06" rpy="0 0 0"/>
    <axis xyz="1 0 0"/>
    <limit lower="-3.14" upper="3.14" effort="5.0" velocity="40.0"/>
  </joint>
  <transmission name="trans_right_wrist_roll_joint">
    <type>transmission_interface/SimpleTransmission</type>
    <joint name="right_wrist_roll_joint"><hardwareInterface>hardware_interface/EffortJointInterface</hardwareInterface></joint>
    <actuator name="motor_right_wrist_roll_joint"><mechanicalReduction>1</mechanicalReduction></actuator>
  </transmission>
  <link name="right_wrist_pitch_link">
    
    <inertial>
      <mass value="0.5"/>
      <origin xyz="0 0 0" rpy="1.5708 0 0"/>
      <inertia ixx="0.01" ixy="0" ixz="0" iyy="0.01" iyz="0" izz="0.01"/>
    </inertial>
    
    <visual>
      <origin xyz="0 0 0" rpy="1.5708 0 0"/>
      <geometry><cylinder radius="0.025" length="0.035"/></geometry>
      <material name="UnitreeGray"><color rgba="0.7 0.7 0.7 1.0"/></material>
    </visual>
    
    <collision>
      <origin xyz="0 0 0" rpy="1.5708 0 0"/>
      <geometry><cylinder radius="0.025" length="0.035"/></geometry>
    </collision>
  </link>
  <joint name="right_wrist_pitch_joint" type="revolute">
    <parent link="right_wrist_roll_link"/>
    <child link="right_wrist_pitch_link"/>
    <origin xyz="0 0 0" rpy="0 0 0"/>
    <axis xyz="0 1 0"/>
    <limit lower="-3.14" upper="3.14" effort="5.0" velocity="40.0"/>
  </joint>
  <transmission name="trans_right_wrist_pitch_joint">
    <type>transmission_interface/SimpleTransmission</type>
    <joint name="right_wrist_pitch_joint"><hardwareInterface>hardware_interface/EffortJointInterface</hardwareInterface></joint>
    <actuator name="motor_right_wrist_pitch_joint"><mechanicalReduction>1</mechanicalReduction></actuator>
  </transmission>
  <link name="right_wrist_yaw_link">
    
    <inertial>
      <mass value="0.5"/>
      <origin xyz="0 0 0" rpy="0 0 0"/>
      <inertia ixx="0.01" ixy="0" ixz="0" iyy="0.01" iyz="0" izz="0.01"/>
    </inertial>
    
    <visual>
      <origin xyz="0 0 0" rpy="0 0 0"/>
      <geometry><cylinder radius="0.025" length="0.035"/></geometry>
      <material name="UnitreeGray"><color rgba="0.7 0.7 0.7 1.0"/></material>
    </visual>
    
    <collision>
      <origin xyz="0 0 0" rpy="0 0 0"/>
      <geometry><cylinder radius="0.025" length="0.035"/></geometry>
    </collision>
  </link>
  <joint name="right_wrist_yaw_joint" type="revolute">
    <parent link="right_wrist_pitch_link"/>
    <child link="right_wrist_yaw_link"/>
    <origin xyz="0 0 0" rpy="0 0 0"/>
    <axis xyz="0 0 1"/>
    <limit lower="-3.14" upper="3.14" effort="5.0" velocity="40.0"/>
  </joint>
  <transmission name="trans_right_wrist_yaw_joint">
    <type>transmission_interface/SimpleTransmission</type>
    <joint name="right_wrist_yaw_joint"><hardwareInterface>hardware_interface/EffortJointInterface</hardwareInterface></joint>
    <actuator name="motor_right_wrist_yaw_joint"><mechanicalReduction>1</mechanicalReduction></actuator>
  </transmission>
</robot>
